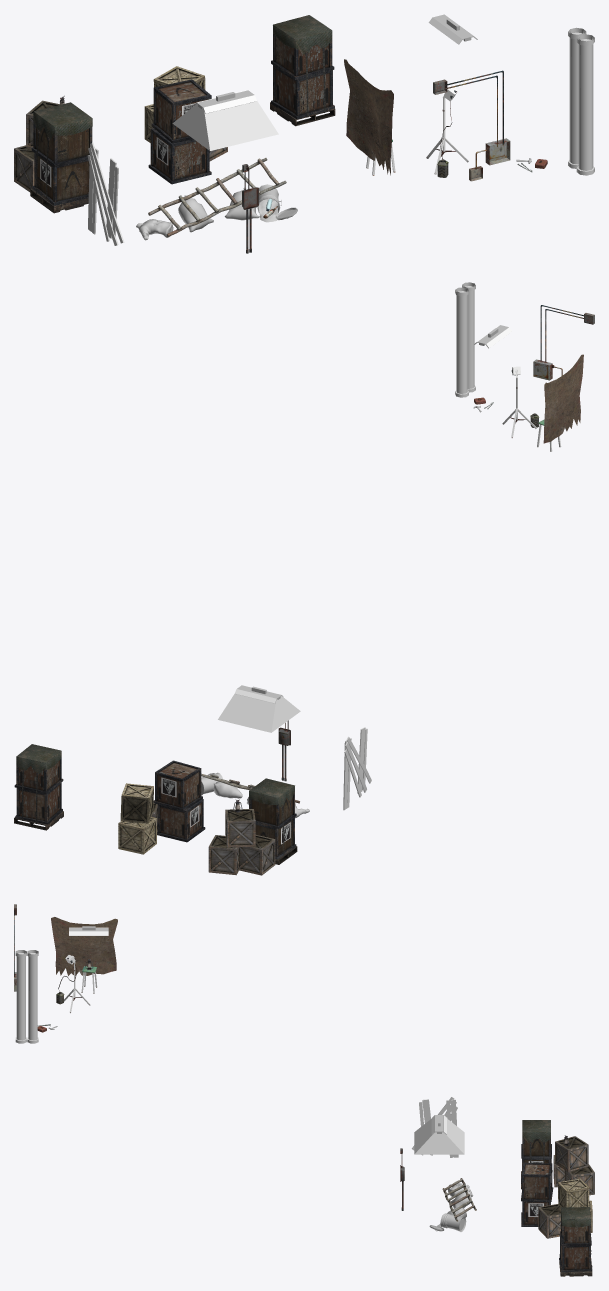
Rendered from SmallInteriorProps.fbx.
3 views of the same model, one above another, from view 1: azimuth 30°, elevation 25°; view 2: azimuth 150°, elevation 25°; view 3: azimuth 270°, elevation 25° (orthographic). The views are drawn at different scales.
Visible parts, largest first — view 1: AuraCrate_01 (×2), RustyThick_VerticalPipe_01 (×2), CrateTop_M (×2), TornCloth_T03, Storage_Fog, AuraCrate_01 (2), DoorPlankSet_T01, AuraCrate_02 (1), AuraCrate_02 (2), AuraCrate_01 (1), Ladder, FuseBoxes_02 (+10 smaller); view 2: WoodenCrate_T02 (×3), AuraCrate_01 (×2), WoodenCrate_T03 (×2), TornCloth_T03, RustyThick_VerticalPipe_01 (×2), CrateTop_M (×2), Storage_Fog, AuraCrate_01 (2), DoorPlankSet_T01, AuraCrate_01 (1), AuraCrate_02 (2), FuseBoxes_02; view 3: TornCloth_T03, RustyThick_VerticalPipe_01 (×2), WoodenCrate_T02 (×2), Storage_Fog, CrateTop_M (×2), AuraCrate_01, AuraCrate_01 (2), WoodenCrate_T03, DoorPlankSet_T01, AuraCrate_01 (1), AuraCrate_02 (2), Ladder.
Part boxes in pixels (x1,y1,x2,y2): AuraCrate_01 (×2): [148, 79, 211, 184]; RustyThick_VerticalPipe_01 (×2): [568, 27, 594, 175]; CrateTop_M (×2): [33, 15, 332, 202]; TornCloth_T03: [344, 59, 393, 175]; Storage_Fog: [172, 101, 278, 150]; AuraCrate_01 (2): [271, 65, 334, 119]; DoorPlankSet_T01: [87, 142, 124, 245]; AuraCrate_02 (1): [32, 153, 89, 205]; AuraCrate_02 (2): [31, 118, 92, 167]; AuraCrate_01 (1): [271, 27, 334, 79]; Ladder: [148, 158, 286, 236]; FuseBoxes_02: [433, 70, 510, 181]; WoodenCrate_T02 (×3): [208, 809, 275, 875]; AuraCrate_01 (×2): [153, 760, 205, 842]; WoodenCrate_T03 (×2): [118, 783, 156, 854]; TornCloth_T03: [543, 354, 583, 443]; RustyThick_VerticalPipe_01 (×2): [455, 282, 475, 397]; CrateTop_M (×2): [16, 744, 294, 856]; Storage_Fog: [218, 694, 300, 732]; AuraCrate_01 (2): [15, 782, 62, 824]; DoorPlankSet_T01: [343, 727, 371, 810]; AuraCrate_01 (1): [14, 752, 63, 794]; AuraCrate_02 (2): [249, 792, 296, 828]; FuseBoxes_02: [533, 305, 594, 380]; TornCloth_T03: [51, 917, 117, 975]; RustyThick_VerticalPipe_01 (×2): [15, 950, 38, 1043]; WoodenCrate_T02 (×2): [538, 1136, 588, 1238]; Storage_Fog: [414, 1118, 464, 1154]; CrateTop_M (×2): [522, 1120, 592, 1268]; AuraCrate_01: [521, 1162, 553, 1201]; AuraCrate_01 (2): [559, 1235, 591, 1272]; WoodenCrate_T03: [558, 1178, 589, 1207]; DoorPlankSet_T01: [412, 1097, 458, 1157]; AuraCrate_01 (1): [560, 1209, 591, 1245]; AuraCrate_02 (2): [521, 1138, 551, 1158]; Ladder: [442, 1178, 476, 1221].
Size of the model in its own units: 7.78 by 9.49 by 18.08.
